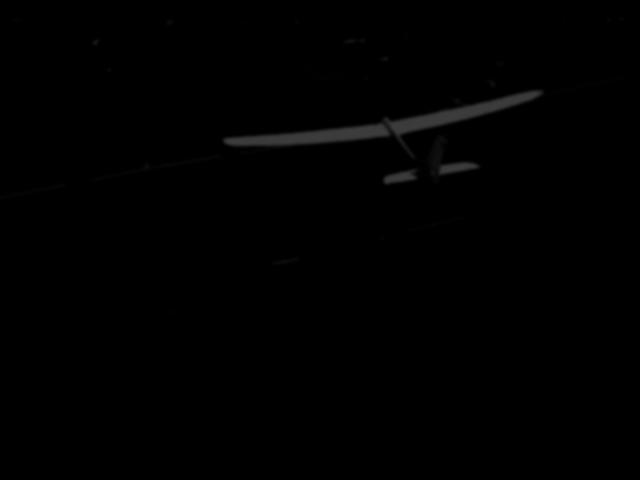hedef: (211, 84, 565, 236)
